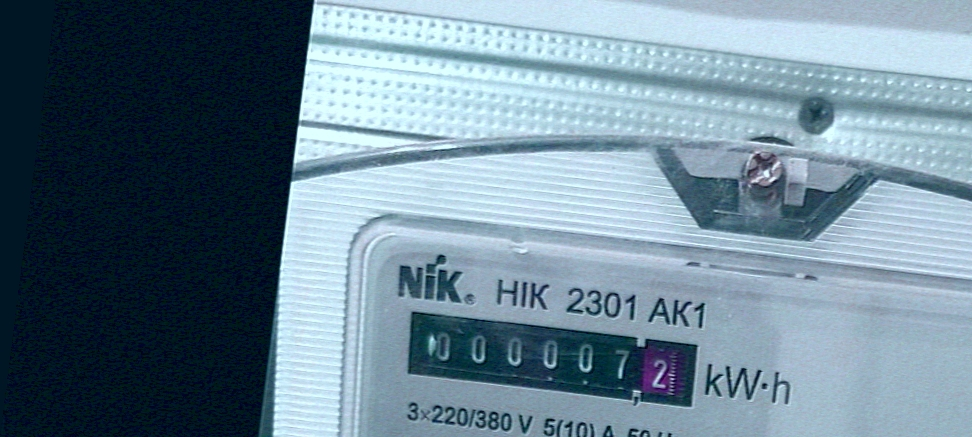0: (501, 331, 529, 372), (430, 327, 457, 364), (573, 338, 598, 376), (539, 336, 563, 375), (467, 330, 492, 367)
2: (647, 355, 673, 393)
7: (608, 344, 634, 384)
screen: (398, 300, 709, 418)
